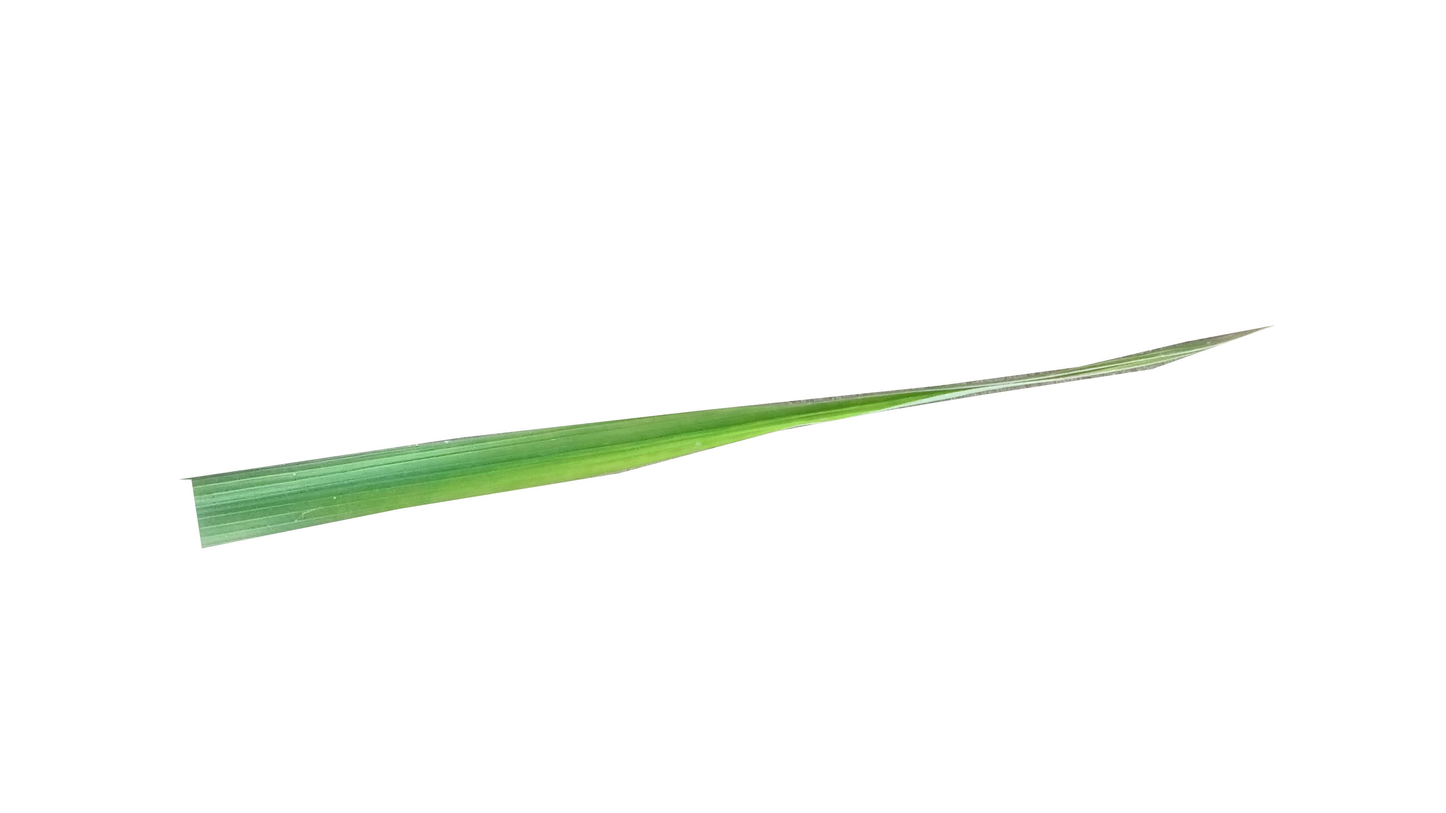Tungro: (346, 405, 897, 512)
